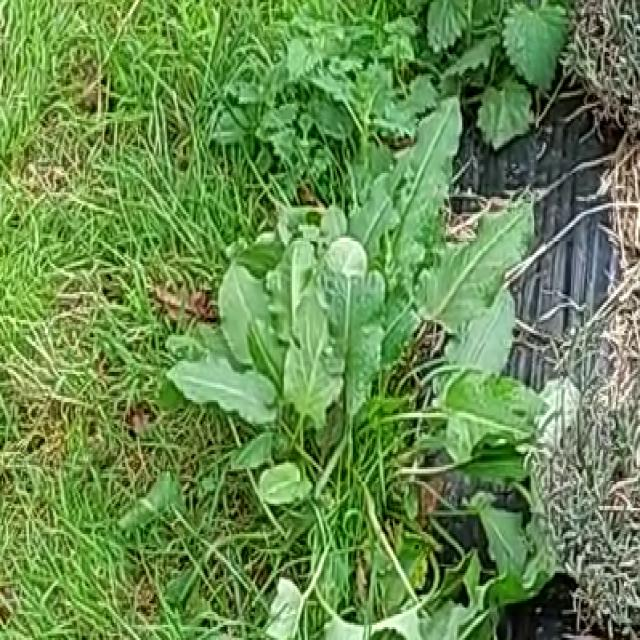organic waste: (135, 82, 560, 616)
